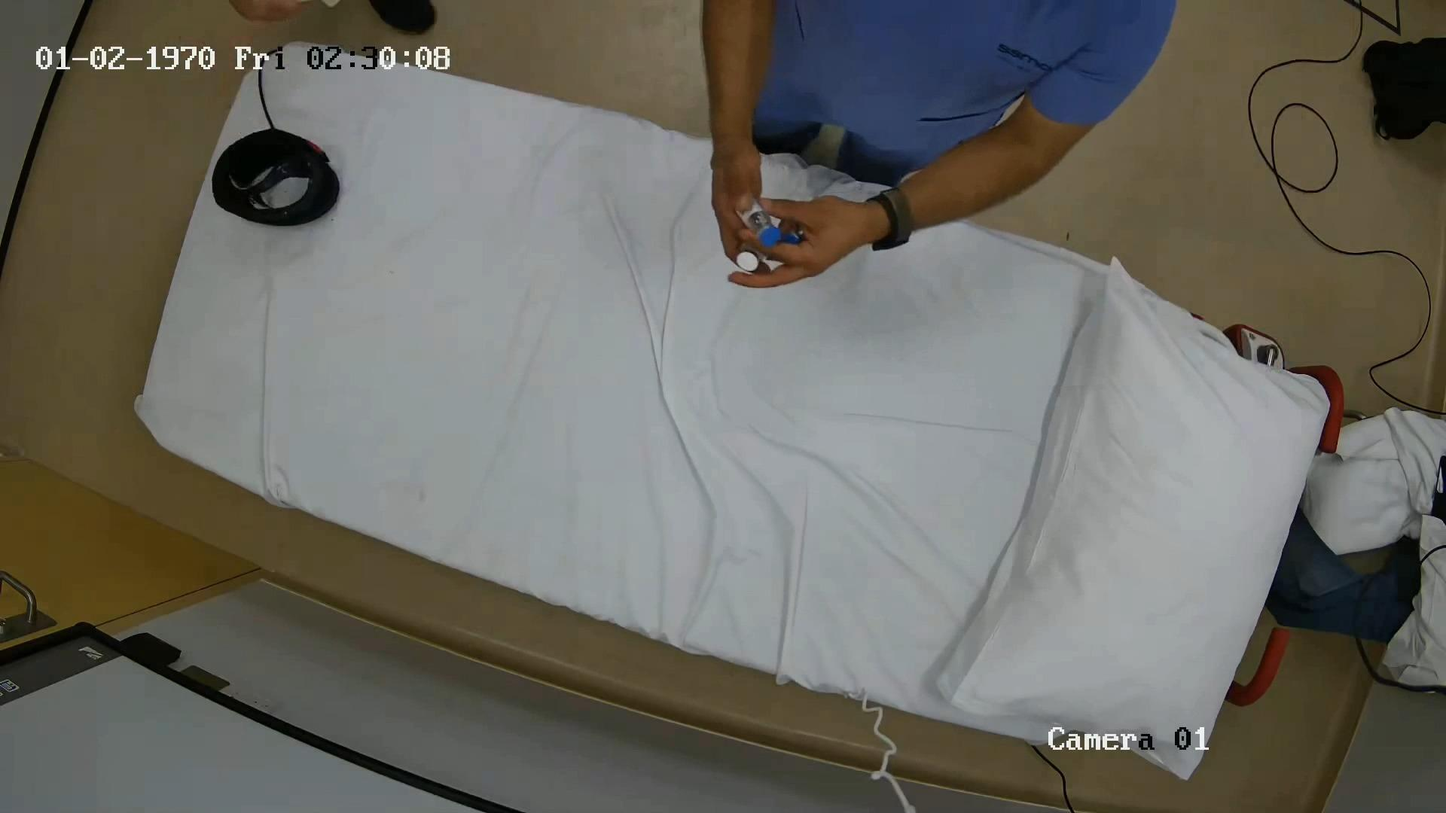augmentin: (734, 251, 758, 272)
bed: (136, 44, 1341, 778)
cefazolin: (740, 199, 786, 247)
tourniquet: (212, 126, 339, 226)
